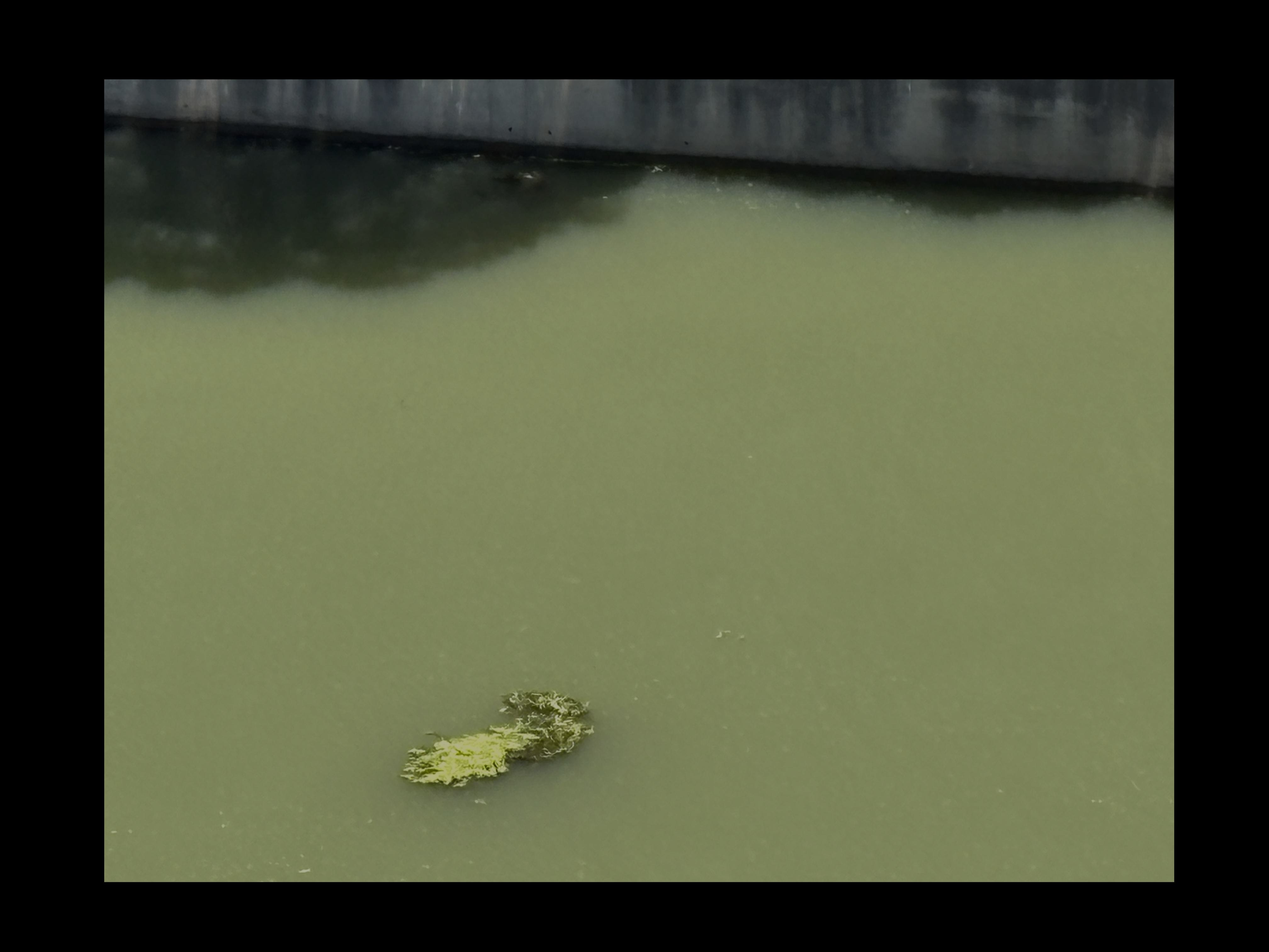Other: (390, 692, 589, 790)
